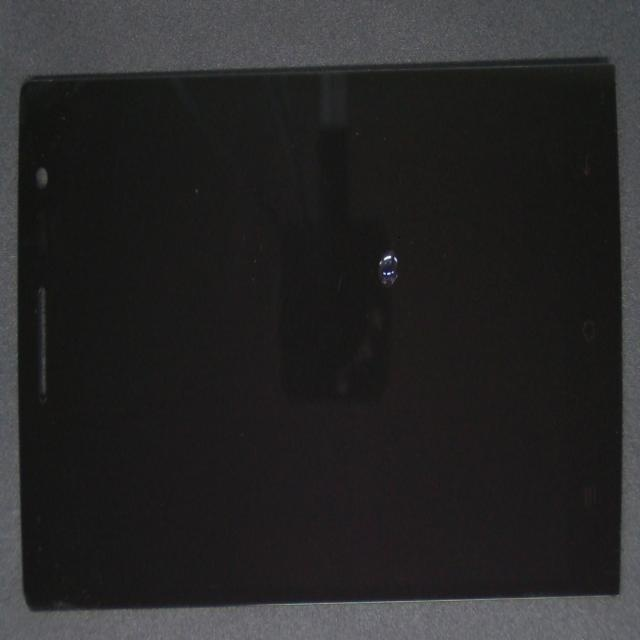oil: (170, 66, 553, 376)
